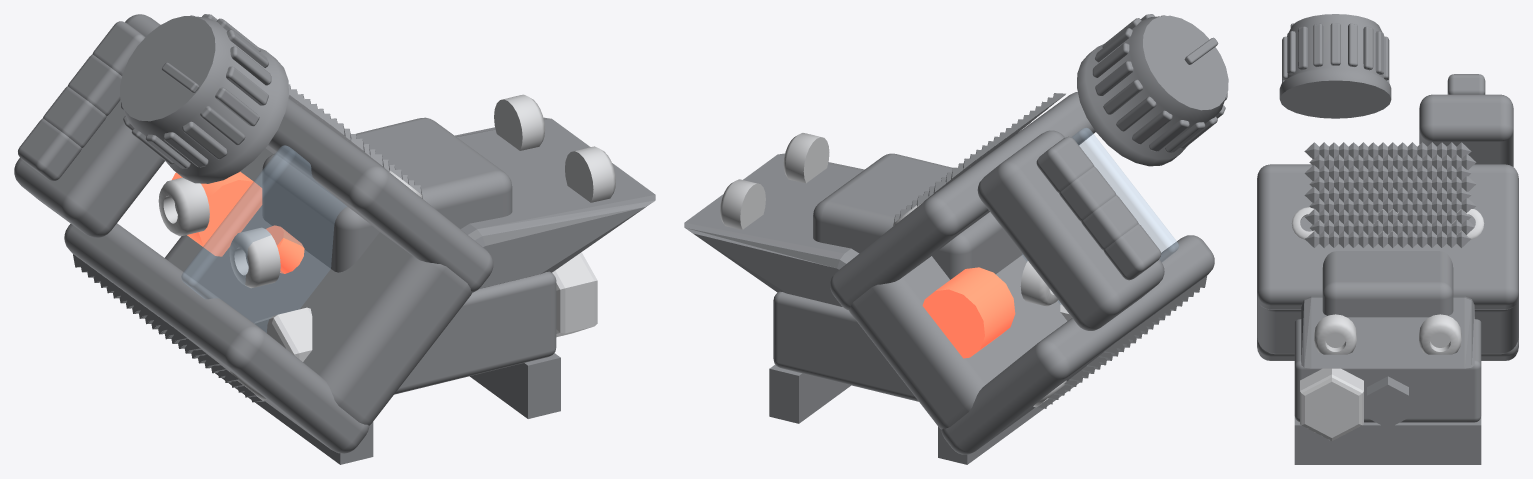
Rendered from mega-weapon-pack-canted-reflex-sight-c0754238__33372.glb.
3 views of the same model, side by side, from view 1: azimuth 30°, elevation 25°; view 2: azimuth 150°, elevation 25°; view 3: azimuth 270°, elevation 25° (orthographic). The views are drawn at different scales.
Visible parts, largest first — view 1: canted-reflex-sight; view 2: canted-reflex-sight; view 3: canted-reflex-sight.
Boxes of the visible parts, bbox=[...] form: canted-reflex-sight: bbox=[14, 14, 655, 464]; canted-reflex-sight: bbox=[684, 14, 1228, 464]; canted-reflex-sight: bbox=[1257, 14, 1518, 464].
Bounding box in the file's own units: 0.0717 × 0.0589 × 0.042.
